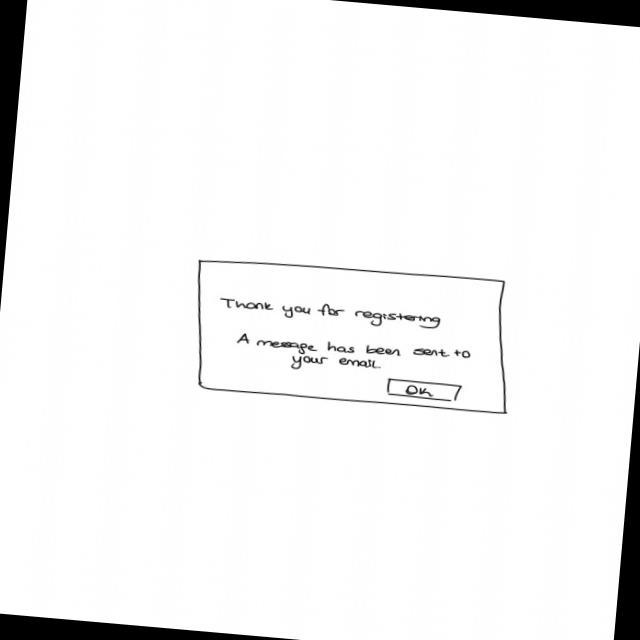button: (384, 376, 464, 403)
container: (185, 253, 521, 416)
label: (233, 328, 473, 386), (217, 293, 442, 333)
